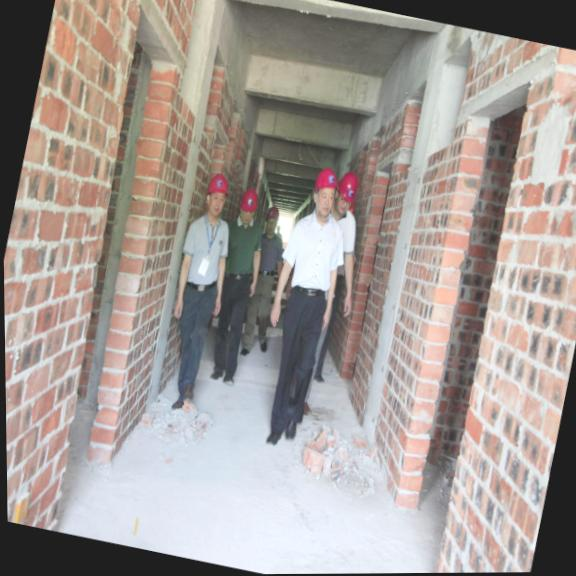no_safety_vest: (273, 205, 354, 303), (173, 208, 236, 287), (215, 214, 268, 281), (248, 226, 289, 282)
